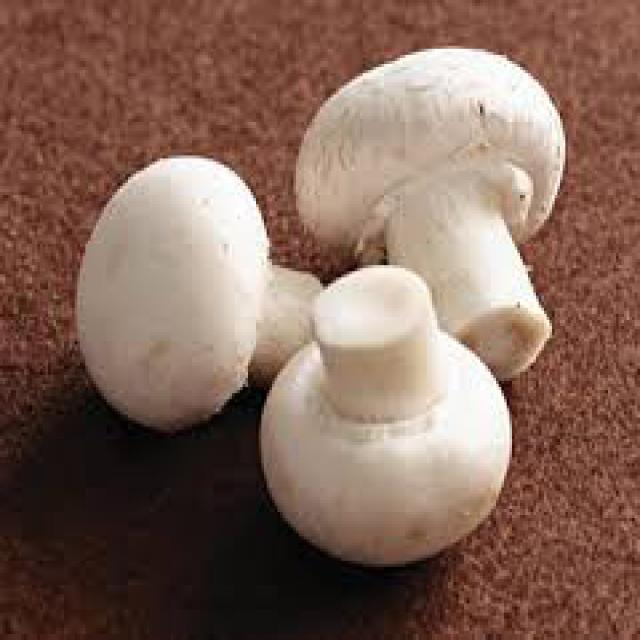Agaricus bisporus: (299, 48, 564, 383), (260, 265, 514, 565), (76, 158, 324, 426)
